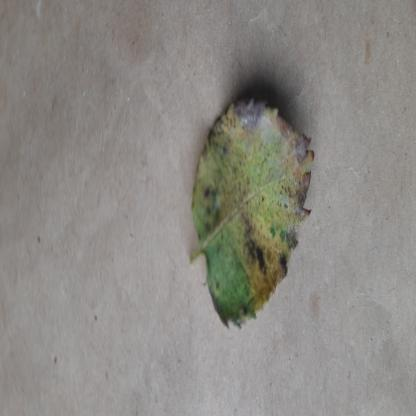black-spot: (190, 97, 318, 330)
